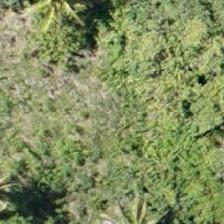coconut_tree: (0, 149, 49, 223)
